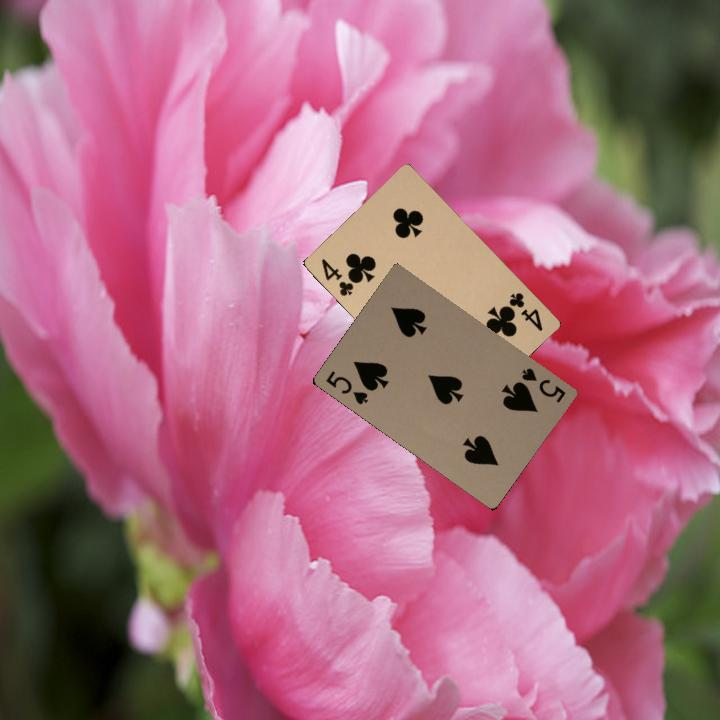4c: (317, 254, 358, 299), (505, 288, 545, 334)
5s: (518, 363, 568, 406), (322, 367, 370, 407)
